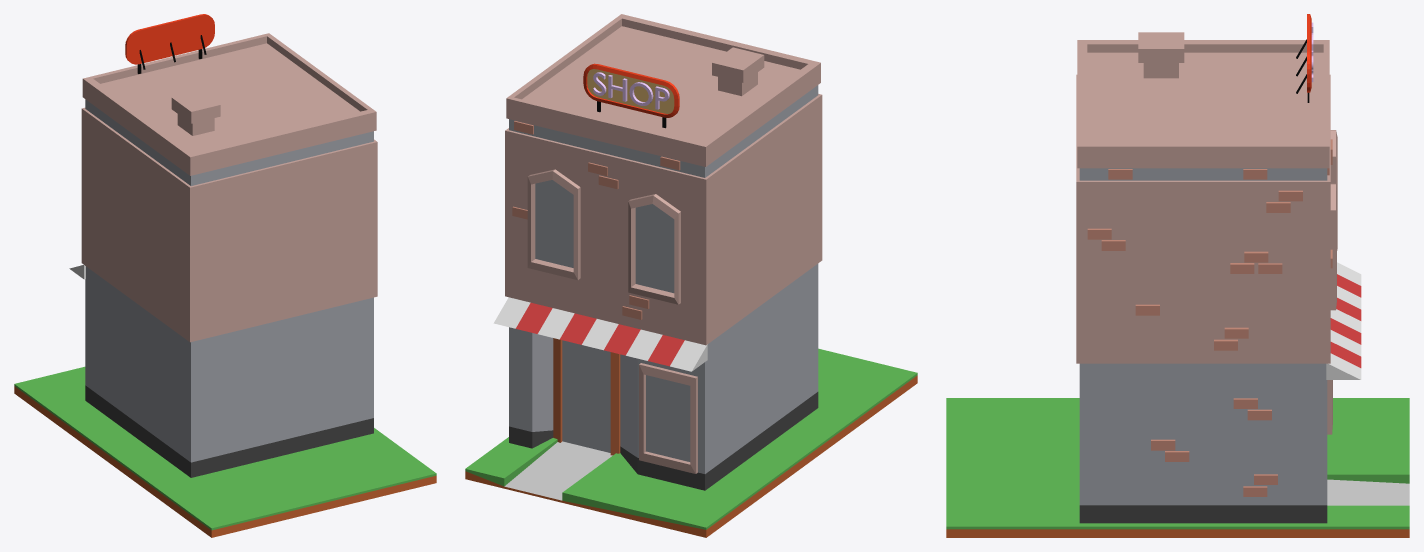
The model's file is shop-building-multi_night.glb.
The picture shows the model from 3 angles, left to right: view 1: azimuth 30°, elevation 25°; view 2: azimuth 150°, elevation 25°; view 3: azimuth 270°, elevation 25°; orthographic projection. The views are drawn at different scales.
Visible parts, largest first — view 1: Cube.001, Cube (×2), Cube.005, Cube.006 (×2), sign_2; view 2: Cube.001, Cube (×2), Cube.005, Cube.006 (×3), Cube.002 (×2), Cube.003, Cube.004, sign_1, sign_2, sign_letters; view 3: Cube.001, Cube (×2), Cube.006 (×3), Cube.005, Cube.002 (×2).
Part boxes in pixels (x1,y1,x2,y2): Cube.001: (81,107,377,342); Cube (×2): (85,99,373,477); Cube.005: (82,33,376,175); Cube.006 (×2): (14,366,436,537); sign_2: (125,14,214,64); Cube.001: (505,94,822,345); Cube (×2): (509,85,818,490); Cube.005: (506,14,820,166); Cube.006 (×3): (465,348,917,537); Cube.002 (×2): (493,297,707,371); Cube.003: (639,363,697,473); Cube.004: (553,338,620,455); sign_1: (587,69,674,113); sign_2: (583,63,679,117); sign_letters: (593,72,669,109); Cube.001: (1076,74,1337,363); Cube (×2): (1079,168,1327,523); Cube.006 (×3): (946,398,1409,537); Cube.005: (1077,32,1329,168); Cube.002 (×2): (1326,262,1361,379).
Bounding box in the file's own units: 4.5 × 7.2 × 6.84.
Materials: 23 (1 with a texture image).
